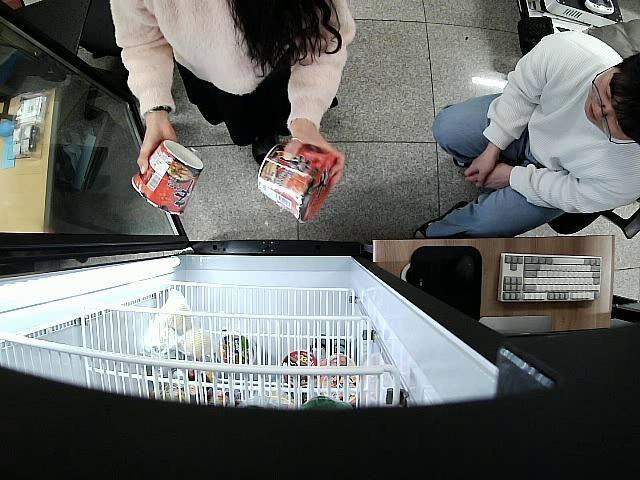01_ShinRamen_L: (258, 142, 338, 222), (132, 139, 205, 216)
